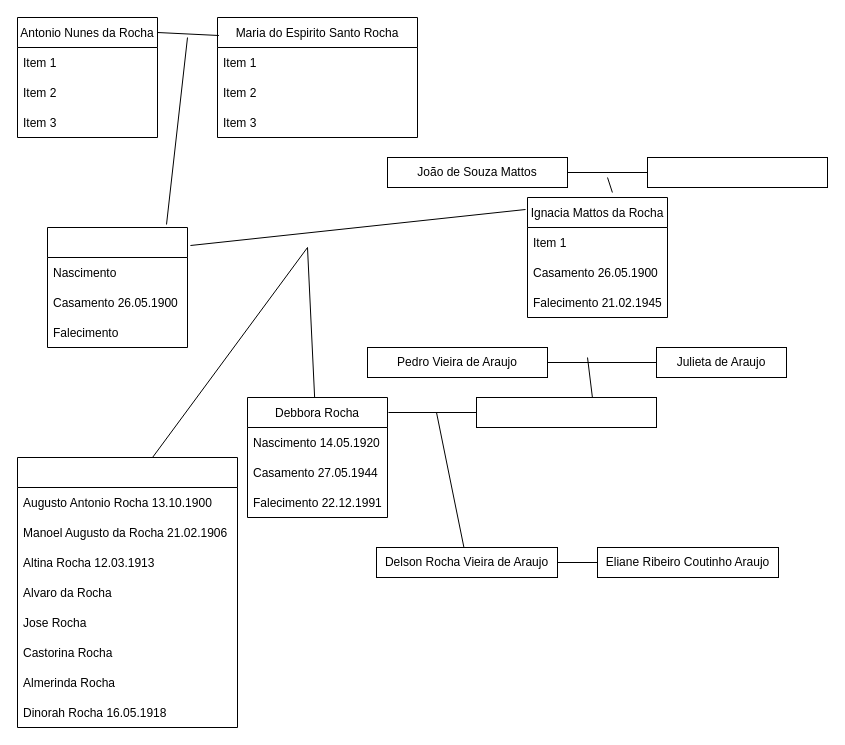
Image size: 845x745. Some labels were removed from this diagram. Here are the shapes that lost their labels. From the top down, the box of each, then its label:
(646, 156, 828, 188): Honorina Cabral de Mattos
(46, 226, 188, 348): Antonio Augusto Rocha
(476, 396, 656, 428): Wilson Vieira de Araujo
(16, 456, 238, 728): Outros filhos
